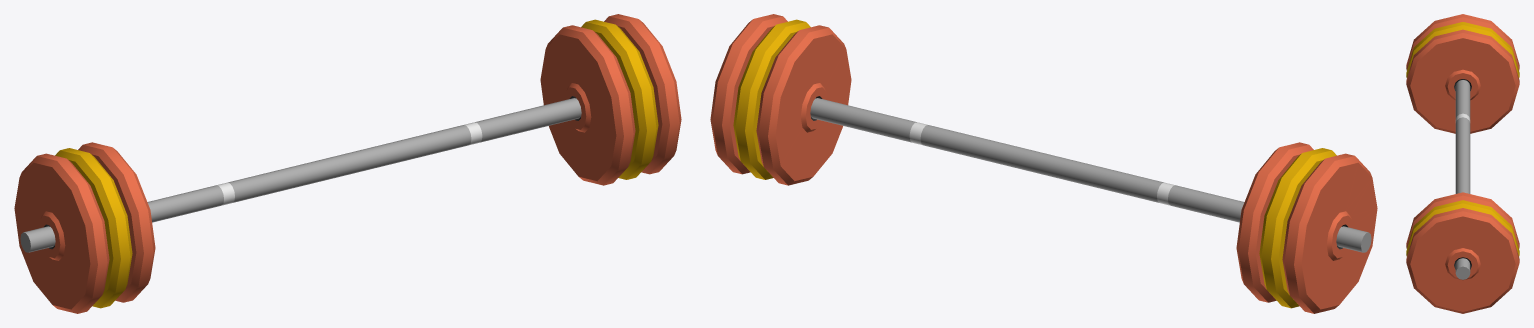
The model's file is barbell.fbx.
The picture shows the model from 3 angles, left to right: view 1: azimuth 30°, elevation 25°; view 2: azimuth 150°, elevation 25°; view 3: azimuth 270°, elevation 25°; orthographic projection. The views are drawn at different scales.
Visible parts, largest first — view 1: barbell; view 2: barbell; view 3: barbell.
Part boxes in pixels (x1,y1,x2,y2): barbell: (14, 14, 681, 313); barbell: (710, 14, 1377, 313); barbell: (1406, 14, 1519, 313).
Size of the model in its own units: 273 by 59.94 by 59.94.
